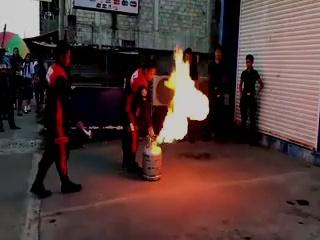Fire: (153, 44, 215, 147)
